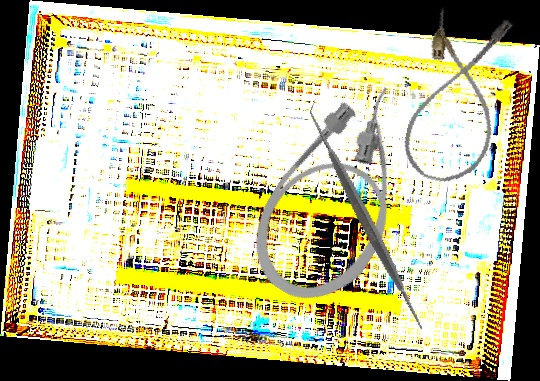Cannula: (231, 66, 452, 322), (396, 3, 520, 192)
Spatula Surgical: (242, 95, 490, 344)
